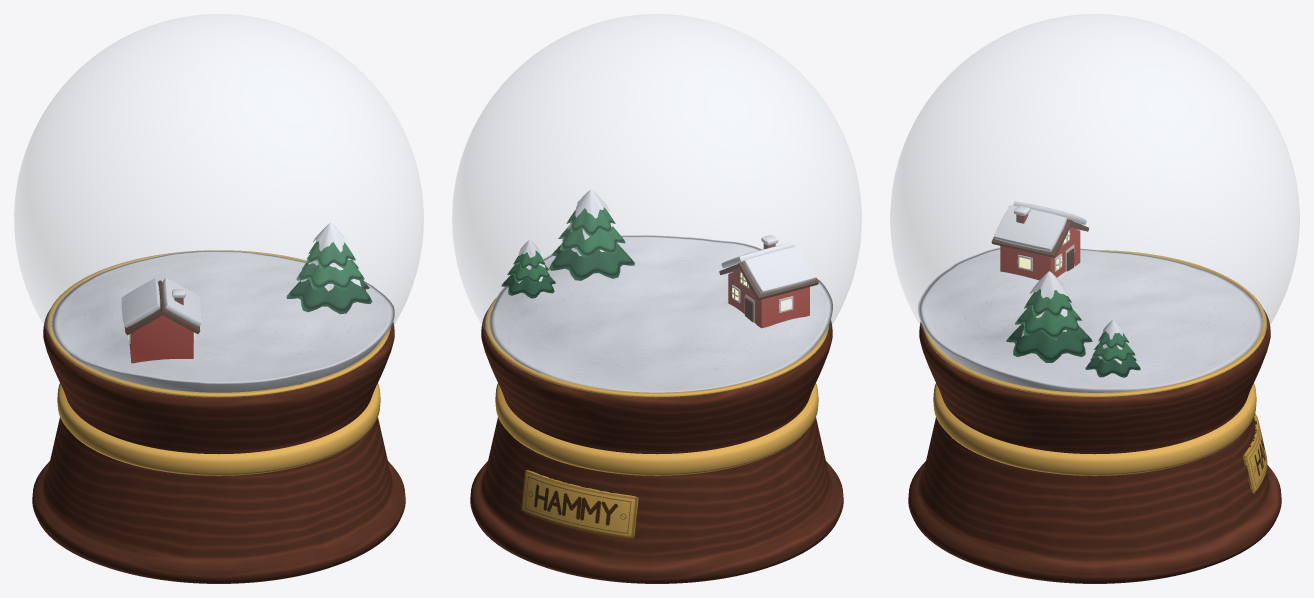
The model's file is snowglobe.glb.
3 views of the same model, side by side, from view 1: azimuth 30°, elevation 25°; view 2: azimuth 150°, elevation 25°; view 3: azimuth 270°, elevation 25° (orthographic).
Parts seen in each view (by area): view 1: snowglobe; view 2: snowglobe; view 3: snowglobe.
Boxes of the visible parts, x1,y1,x2,y2 form: snowglobe: [14, 14, 423, 583]; snowglobe: [452, 14, 861, 583]; snowglobe: [890, 14, 1299, 583].
Bounding box in the file's own units: 0.8998 × 1.15 × 0.8998.
Materials: 7 (4 with a texture image).
